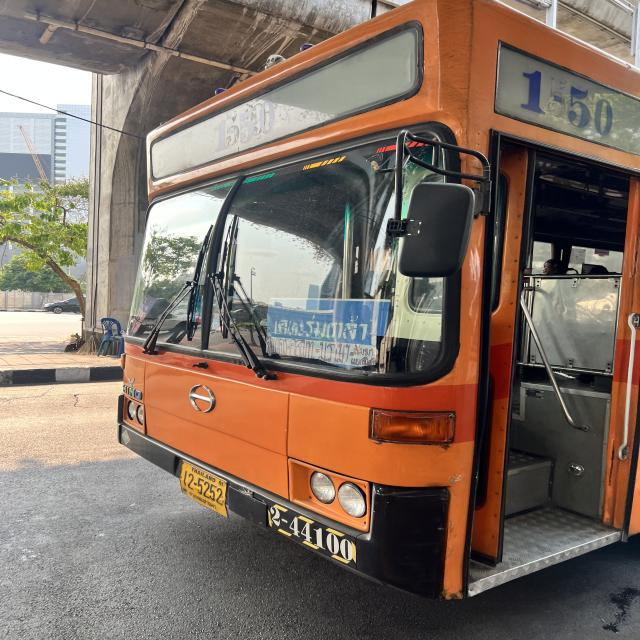BMTA-bus: (115, 0, 640, 603)
Bus-Line-Number: (206, 96, 278, 156)
Destination-Sign-Normal: (264, 298, 392, 370)
